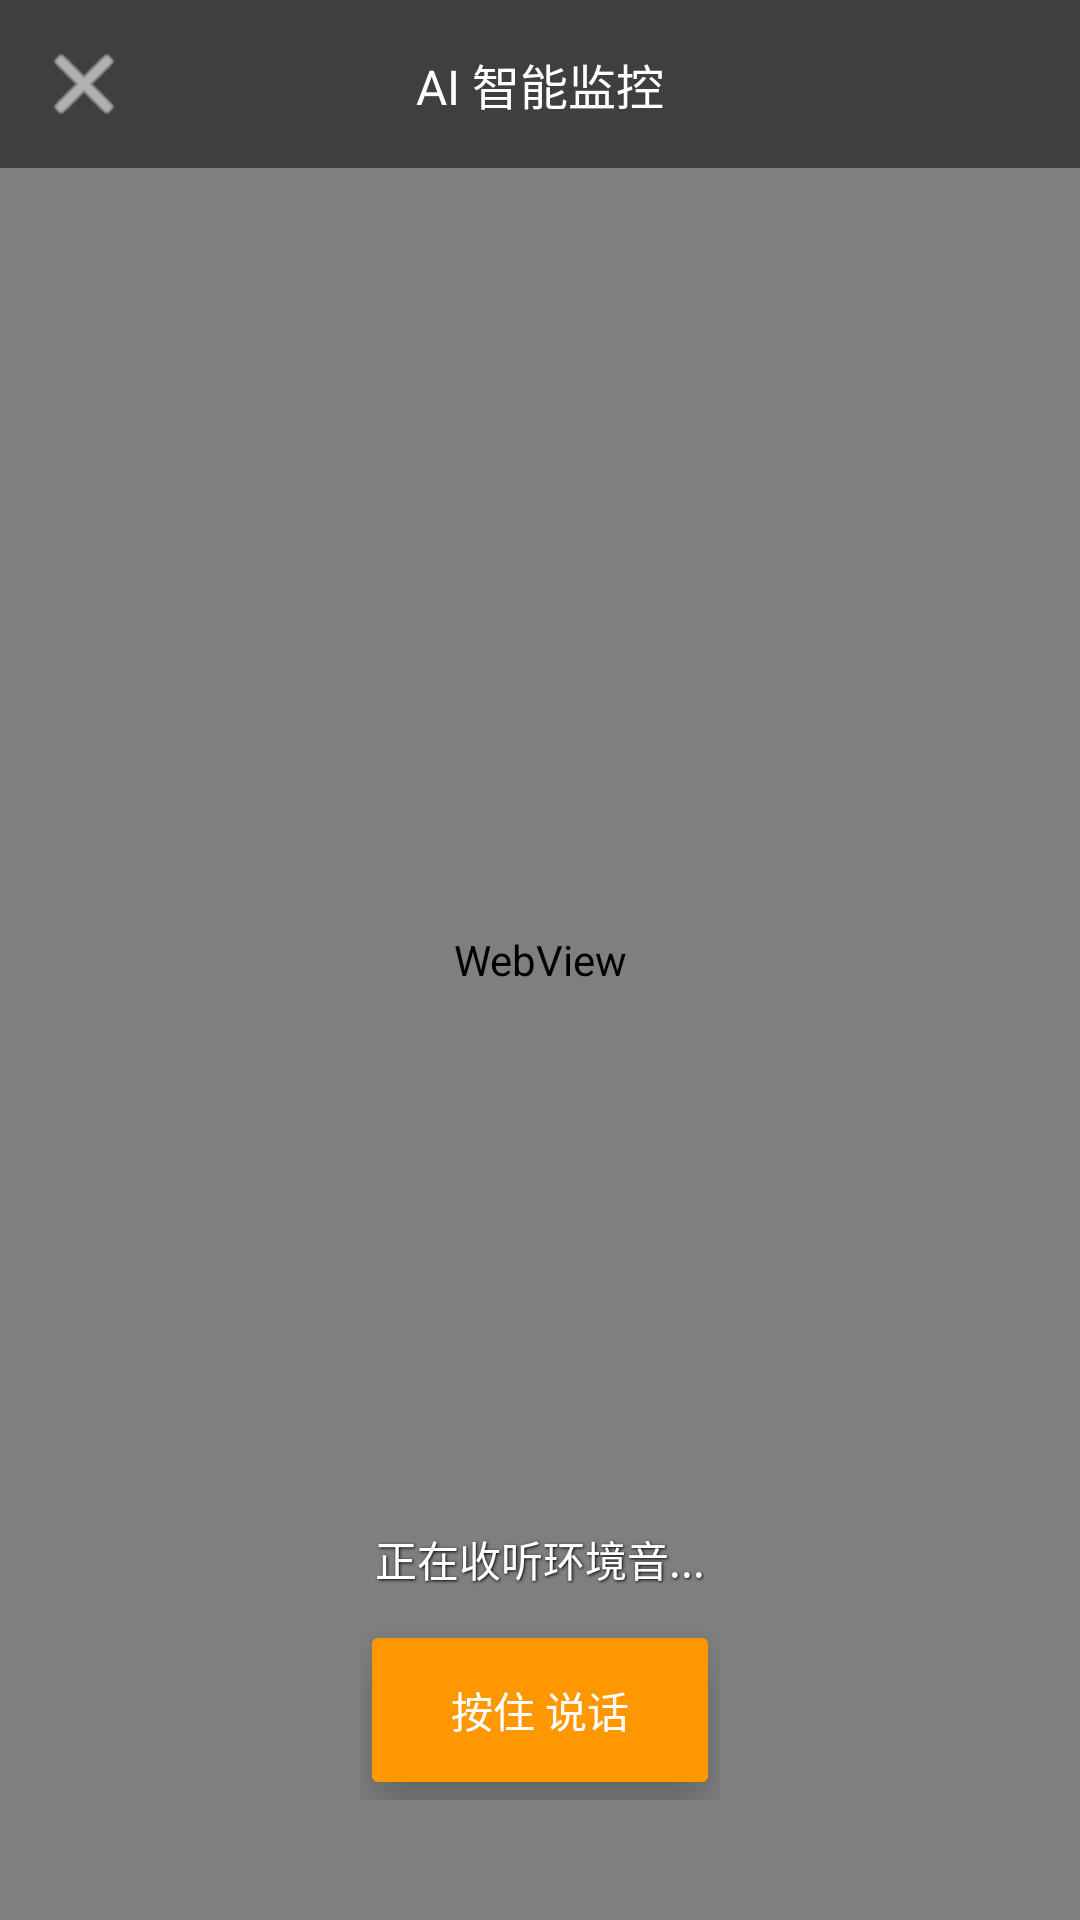

Icon click points for this 1080px x 1920px phone screenshot, format (x,y):
close clear cancel: (84,84)
